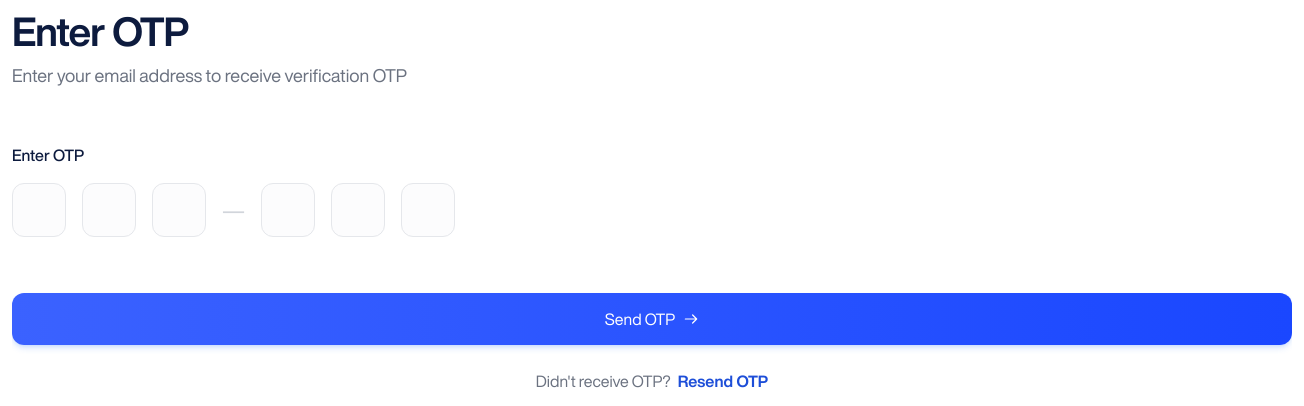
VerifyOTP › resends OTP when clicking resend
Click the text "Resend OTP" at (723, 381), box [678,373,768,389]
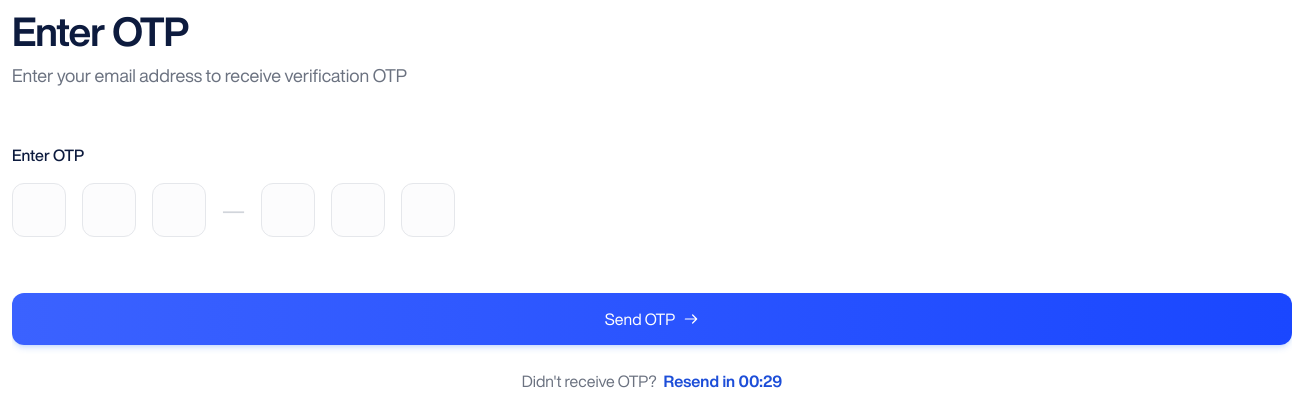
Check: the text "Resend in 00:29" is shown, box [664,373,782,389]
